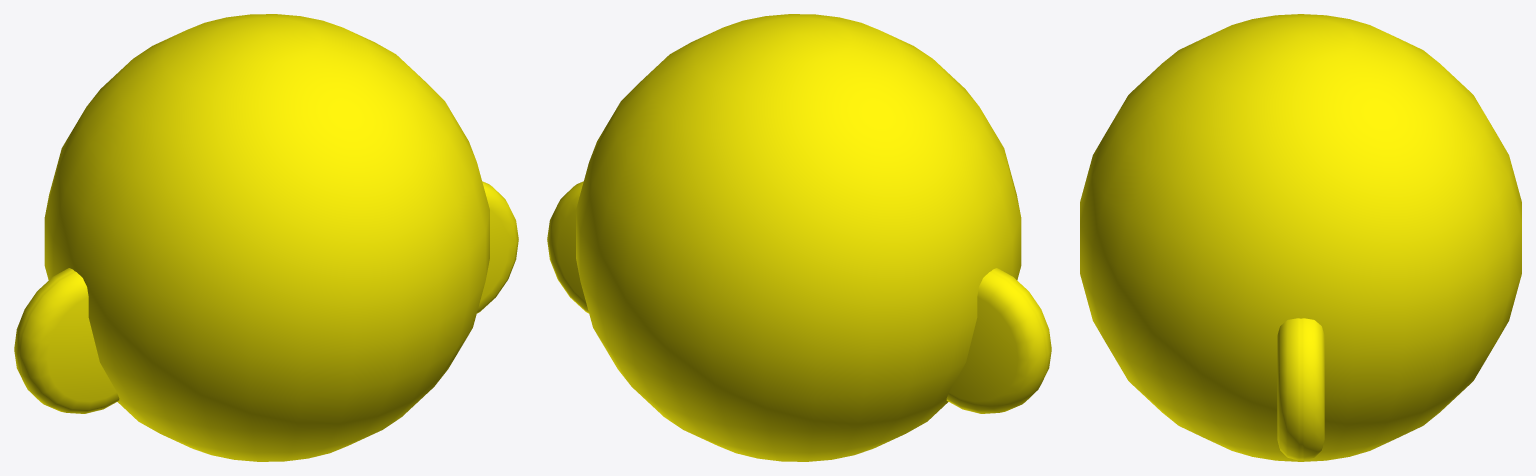
The model's file is Head0.glb.
3 views of the same model, side by side, from view 1: azimuth 30°, elevation 25°; view 2: azimuth 150°, elevation 25°; view 3: azimuth 270°, elevation 25° (orthographic).
Visible parts, largest first — view 1: Head_Sphere; view 2: Head_Sphere; view 3: Head_Sphere.
Boxes of the visible parts, x1,y1,x2,y2 form: Head_Sphere: (14,14,518,461); Head_Sphere: (547,14,1051,461); Head_Sphere: (1080,14,1521,461).
Size of the model in its own units: 316 by 248 by 244.
